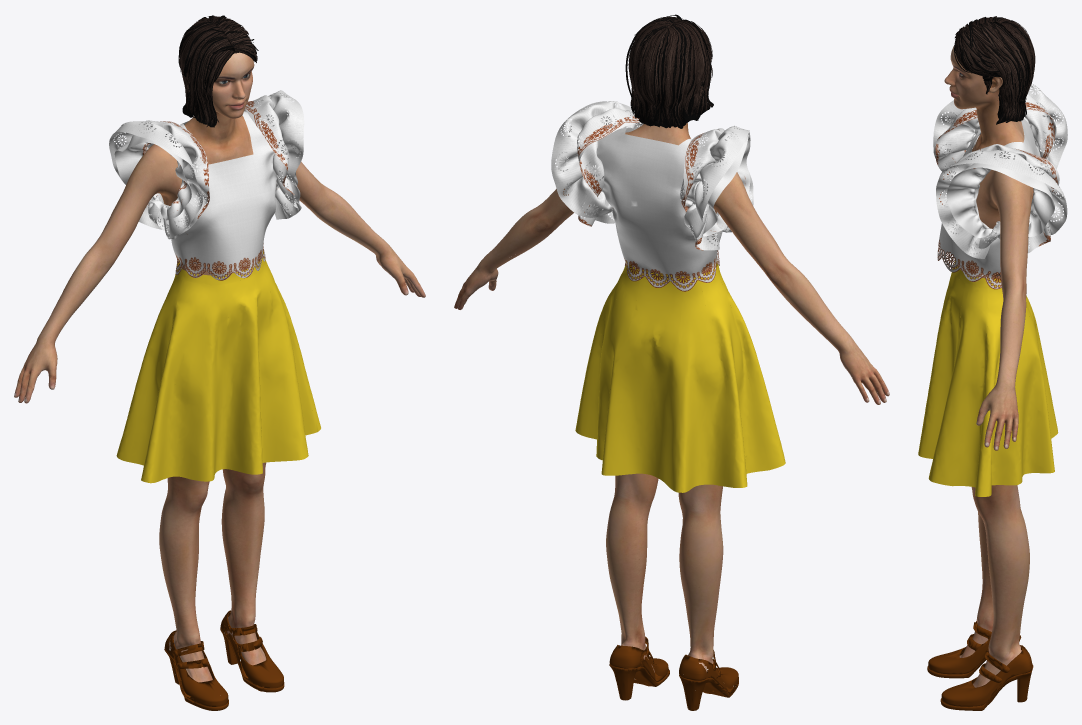
The picture shows the model from 3 angles, left to right: view 1: azimuth 30°, elevation 25°; view 2: azimuth 150°, elevation 25°; view 3: azimuth 270°, elevation 25°; orthographic projection. The views are drawn at different scales.
Parts seen in each view (by area): view 1: Cloth, Avatar; view 2: Cloth, Avatar; view 3: Cloth, Avatar.
Part boxes in pixels (box(x1,y1,x2,y2)): Cloth: box(109, 90, 320, 483); Avatar: box(14, 15, 425, 710); Cloth: box(551, 101, 785, 492); Avatar: box(454, 14, 889, 710); Cloth: box(918, 83, 1067, 496); Avatar: box(927, 16, 1035, 710).
Bounding box in the file's own units: 1.09 × 1.69 × 0.3416.
Materials: 12 (11 with a texture image).
